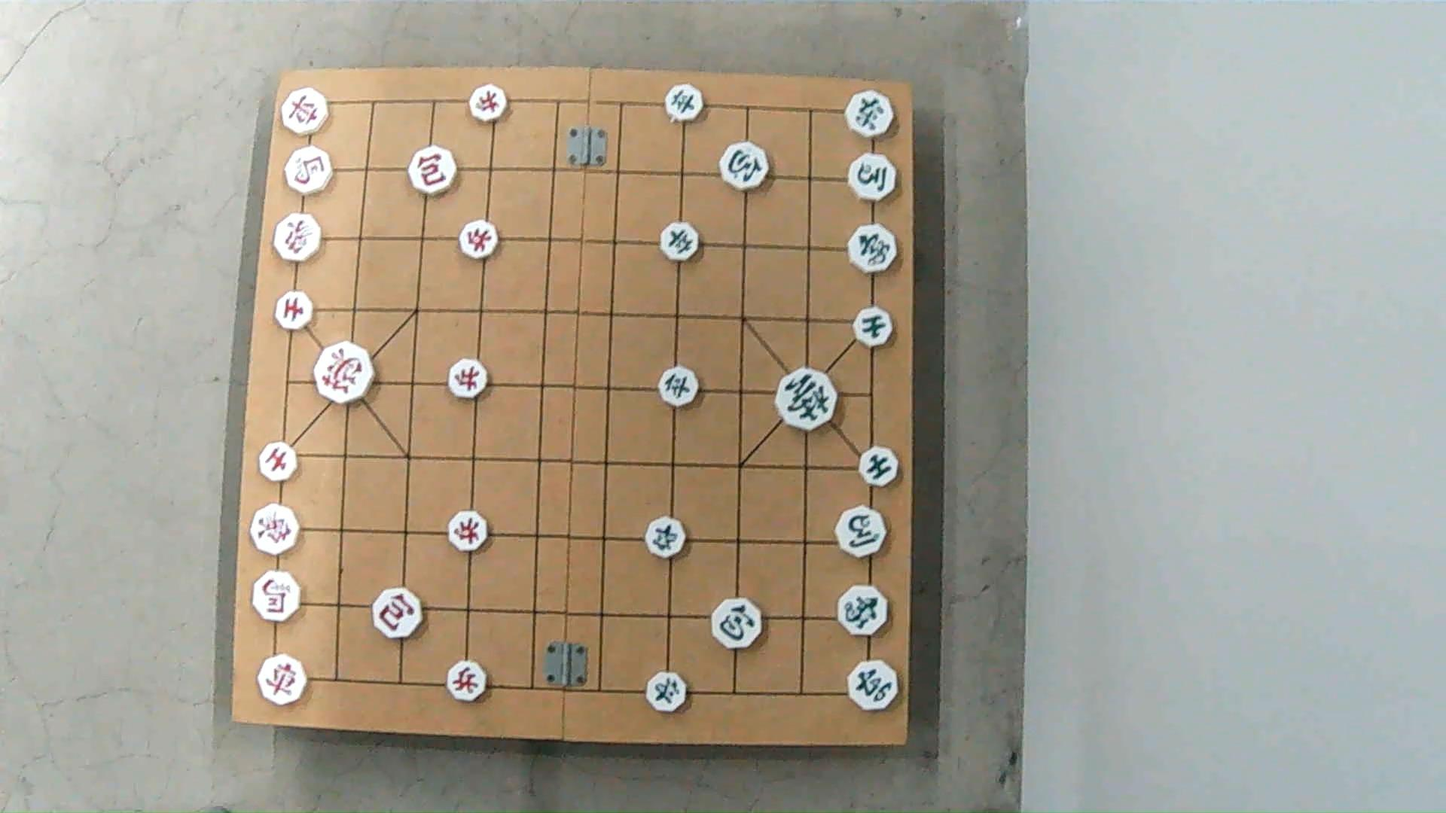cha_green: (848, 659, 898, 708), (845, 96, 897, 139)
cha_red: (256, 658, 308, 704), (282, 88, 331, 136)
jol_green: (644, 520, 688, 558), (645, 673, 688, 710), (655, 370, 697, 407), (657, 225, 700, 261), (667, 87, 709, 121)
jol_red: (447, 663, 490, 701), (448, 514, 490, 552), (450, 361, 492, 397), (460, 224, 502, 258), (469, 87, 511, 120)
ma_green: (834, 505, 891, 556), (850, 156, 901, 200)
ma_red: (251, 576, 300, 622), (285, 151, 337, 194)
po_green: (709, 595, 767, 648), (720, 143, 770, 190)
po_red: (371, 592, 423, 638), (408, 150, 460, 194)
sa_green: (859, 445, 903, 488), (852, 309, 895, 348)
sa_red: (255, 444, 298, 481), (275, 294, 317, 330)
sang_green: (836, 586, 889, 637), (848, 223, 896, 276)
sang_red: (248, 508, 300, 554), (273, 216, 324, 260)
wang_green: (773, 366, 840, 429)
wang_red: (313, 340, 377, 406)
